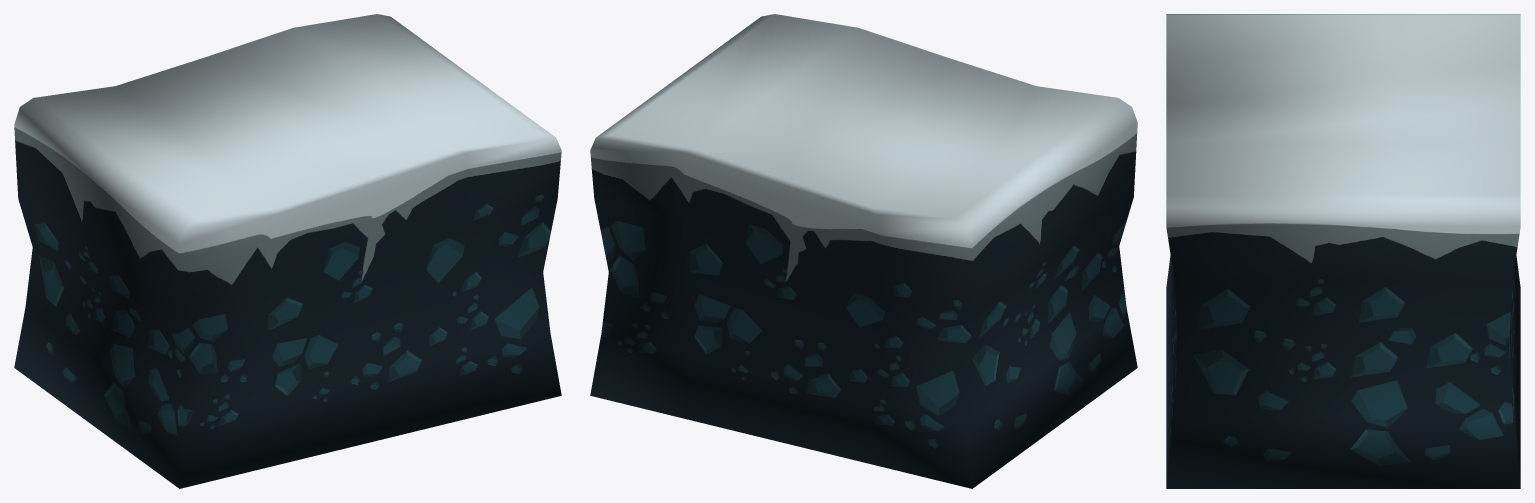
File: Plataforma 1.fbx
3 renders of one model, left to right at view 1: azimuth 30°, elevation 25°; view 2: azimuth 150°, elevation 25°; view 3: azimuth 270°, elevation 25°, orthographic. The views are drawn at different scales.
Parts seen in each view (by area): view 1: plataforma_menor; view 2: plataforma_menor; view 3: plataforma_menor.
Part boxes in pixels (x1=…): plataforma_menor: x1=14, y1=14, x2=561, y2=488; plataforma_menor: x1=590, y1=14, x2=1137, y2=488; plataforma_menor: x1=1166, y1=14, x2=1520, y2=488.
Size of the model in its own units: 1200 by 816 by 900.
